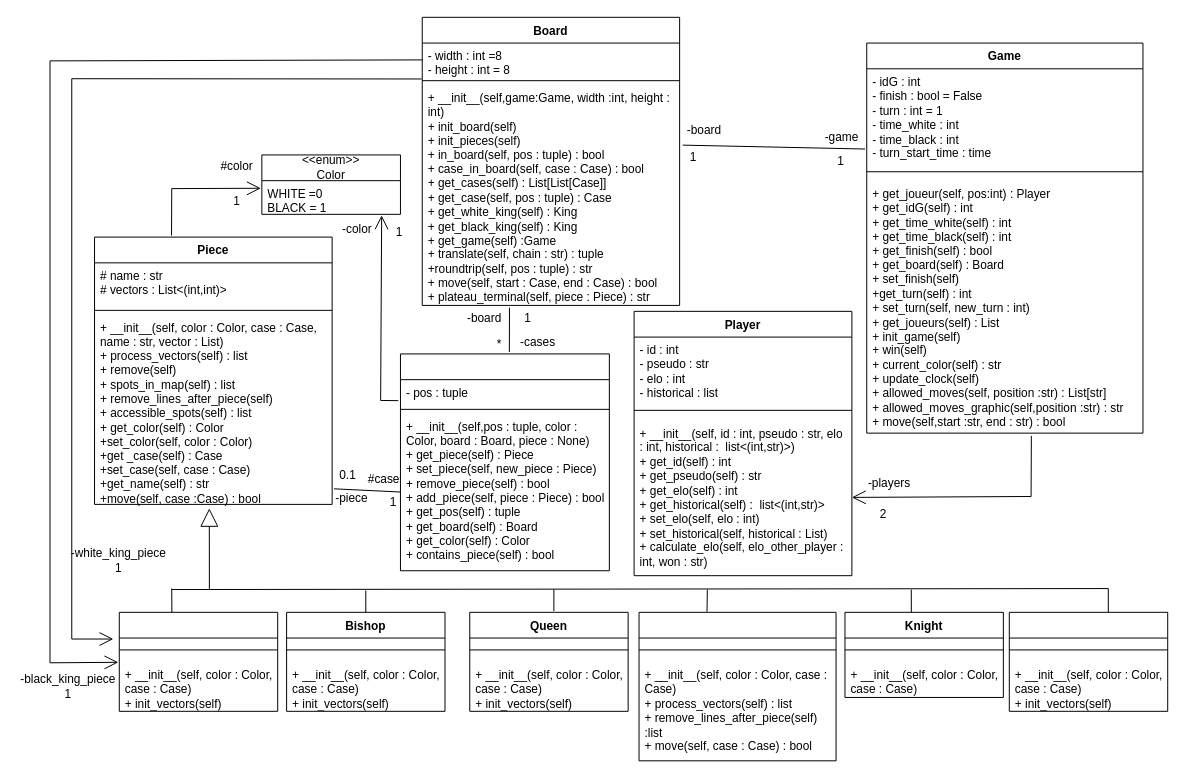
The diagram is 1185 pixels wide and 781 high, and some of its shapes have lost their labels. Here are the shapes that lost their labels. From the top down, the box of each, then its label:
(399, 353, 609, 571): Case
(118, 611, 278, 711): King
(1008, 611, 1168, 711): Rock
(638, 611, 836, 761): Pawn
